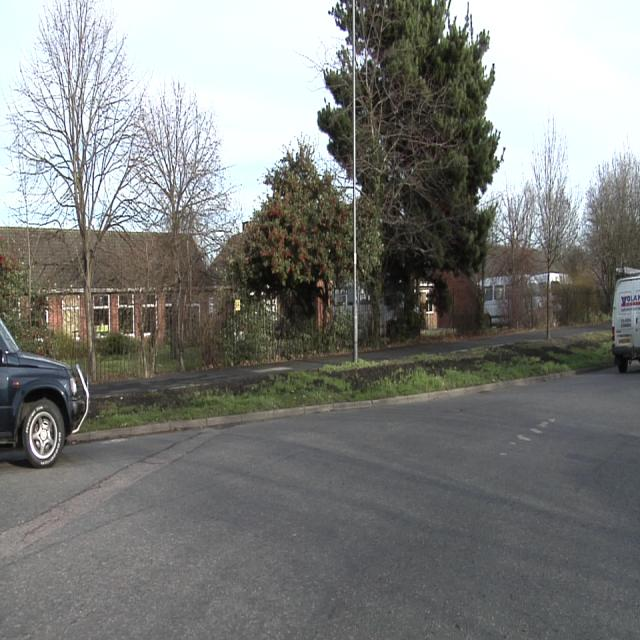Car: (1, 320, 87, 466)
Road: (0, 371, 637, 621)
Tree: (357, 0, 639, 342), (2, 0, 226, 351), (244, 142, 350, 299), (90, 233, 178, 377), (29, 230, 86, 338), (180, 238, 208, 344)
Truck_Bus: (614, 274, 639, 371)
